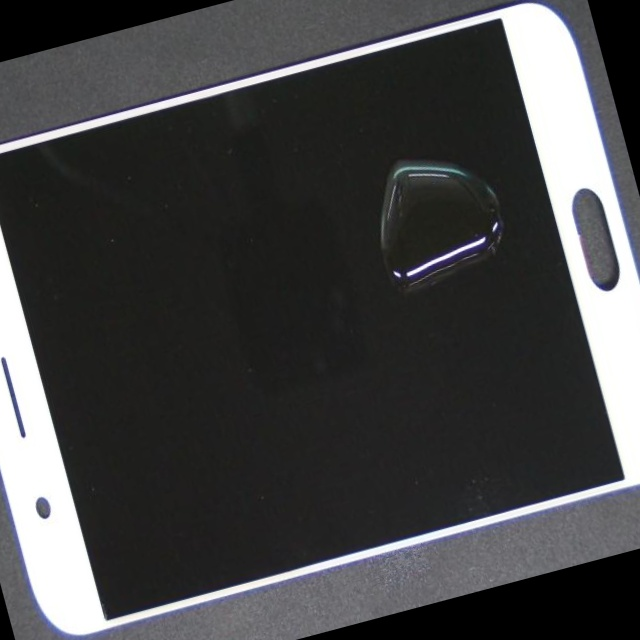oil: (236, 64, 640, 355)
